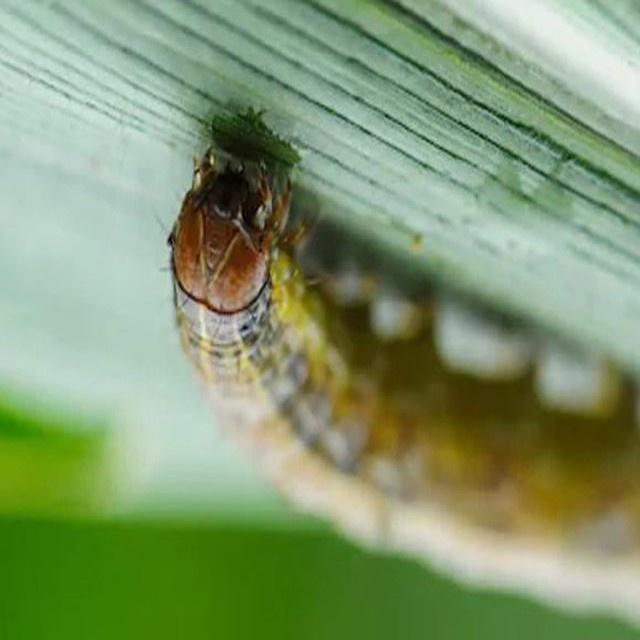gusano_cogollero: (166, 173, 604, 585)
